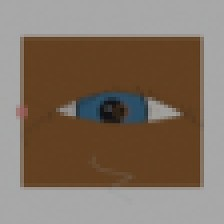foreign_body_visible: (103, 126, 125, 143)
